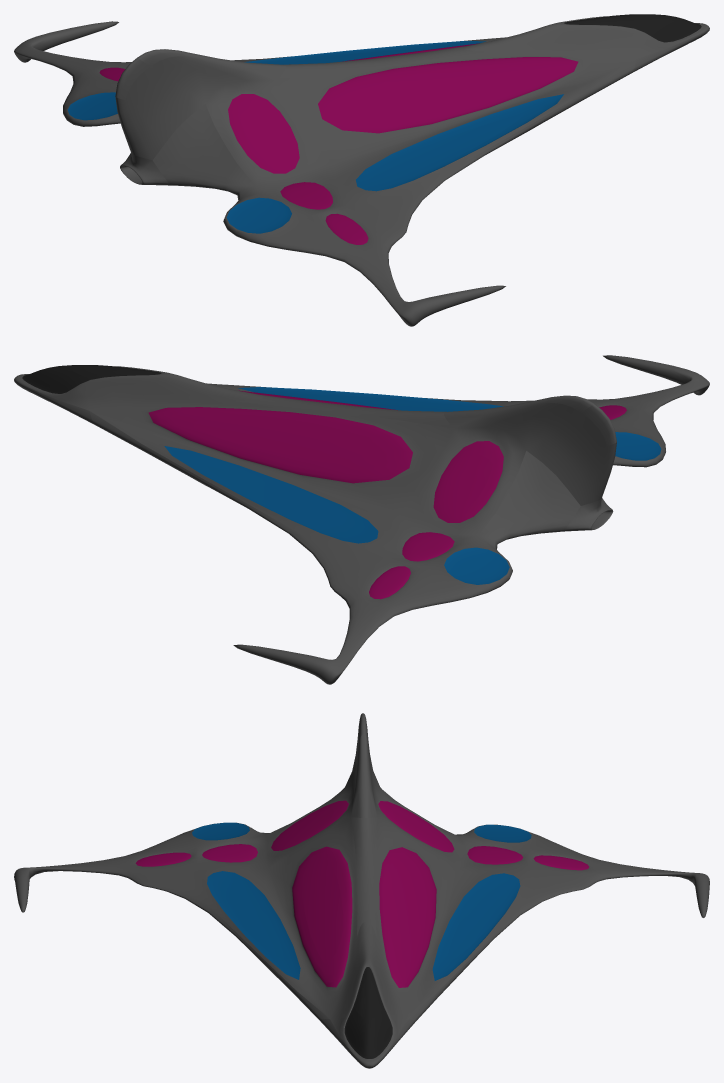
File: ASF-HP.obj
3 renders of one model, top to bottom at view 1: azimuth 30°, elevation 25°; view 2: azimuth 150°, elevation 25°; view 3: azimuth 270°, elevation 25°, orthographic. The views are drawn at different scales.
Parts seen in each view (by area): view 1: box0000000, box0000001, box, box0000002; view 2: box0000000, box0000001, box, box0000002; view 3: box0000000, box0000001, box, box0000002.
Boxes of the visible parts, left/top/right/bottom form: box0000000: left=14, top=16, right=709, bottom=326; box0000001: left=99, top=43, right=578, bottom=244; box: left=67, top=41, right=563, bottom=233; box0000002: left=564, top=14, right=701, bottom=42; box0000000: left=14, top=355, right=709, bottom=684; box0000001: left=148, top=390, right=626, bottom=599; box: left=164, top=387, right=661, bottom=584; box0000002: left=22, top=365, right=161, bottom=393; box0000000: left=14, top=713, right=709, bottom=1068; box0000001: left=135, top=800, right=588, bottom=987; box: left=192, top=822, right=531, bottom=980; box0000002: left=344, top=967, right=392, bottom=1058.
Size of the model in its own units: 9.34 by 2.45 by 10.48.
